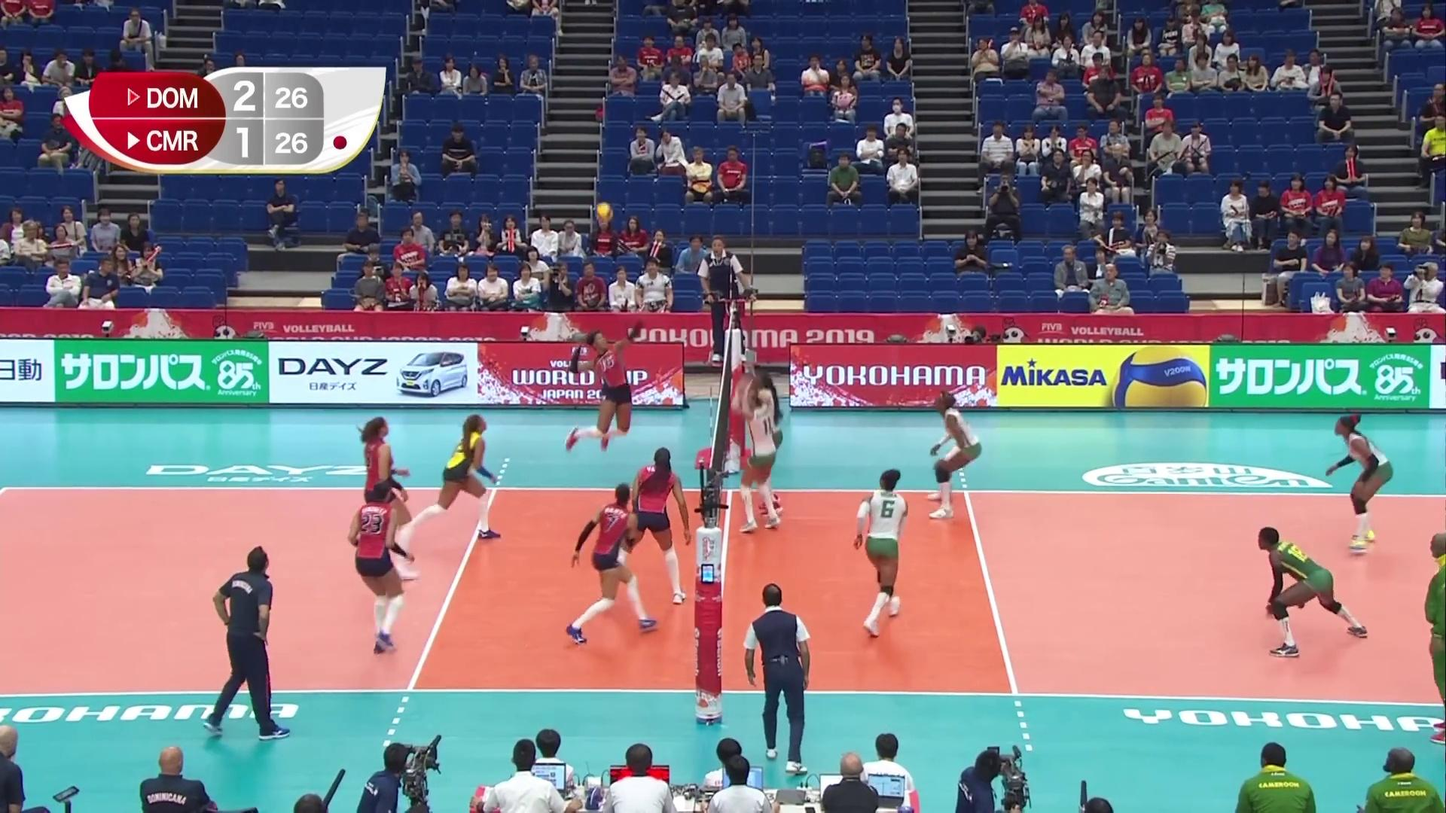player: (1258, 529, 1367, 657), (570, 483, 656, 641), (395, 413, 501, 538), (607, 449, 689, 604), (349, 483, 417, 655), (568, 312, 645, 449), (1324, 414, 1394, 552), (850, 472, 910, 633), (362, 416, 417, 577), (928, 394, 984, 522), (737, 379, 778, 533), (748, 365, 786, 517)
refree: (748, 584, 812, 772), (702, 234, 752, 364)
